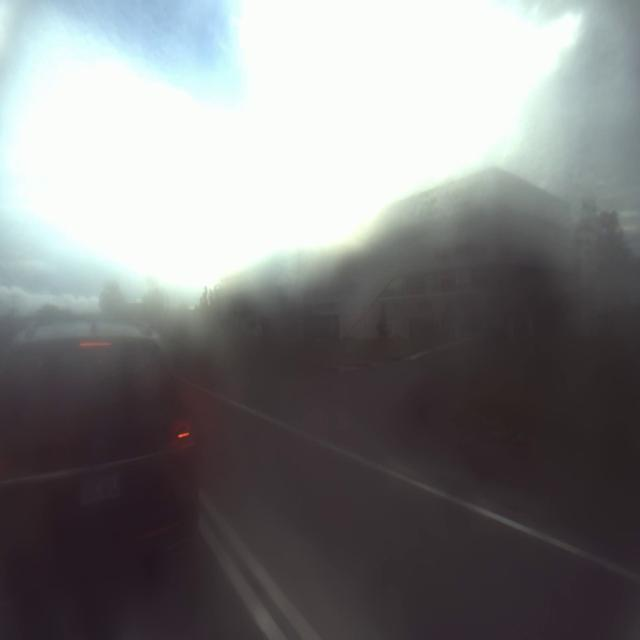car: (5, 321, 202, 535)
